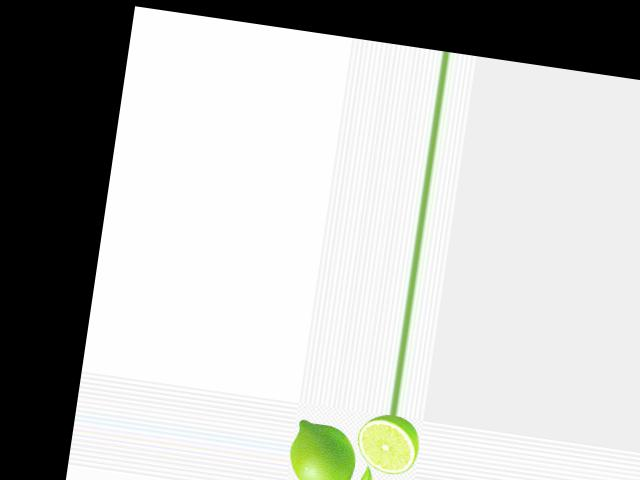lemon: (287, 415, 363, 480)
